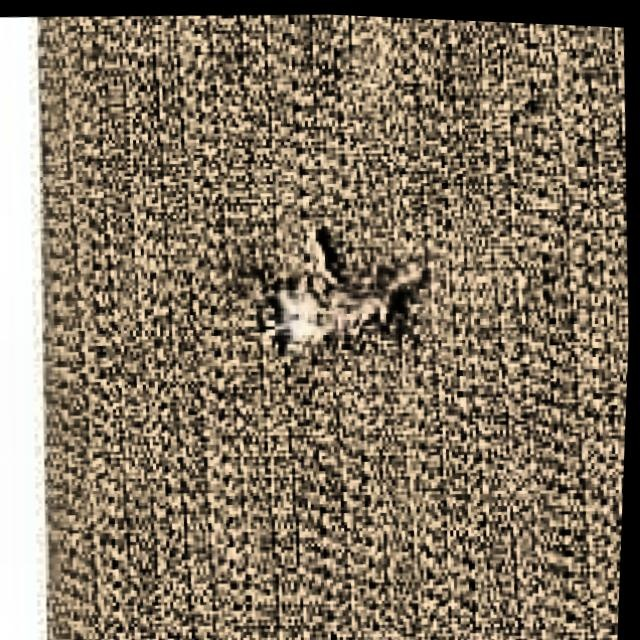Hole: (215, 176, 468, 399)
